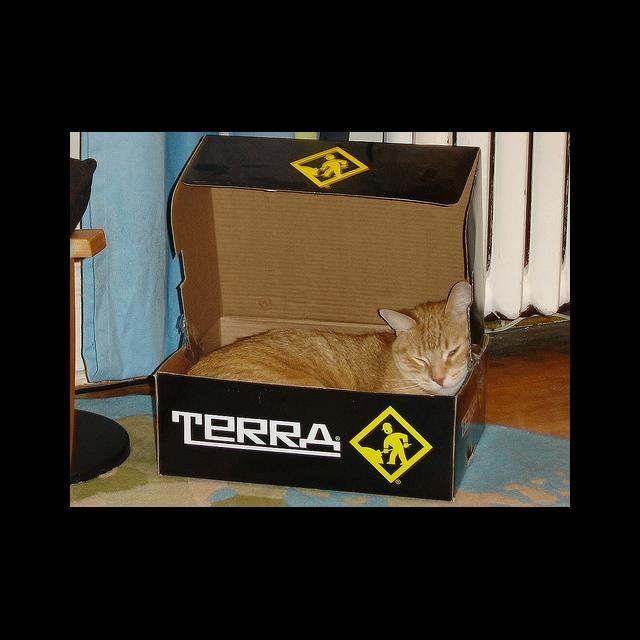animals: (380, 284, 471, 384)
